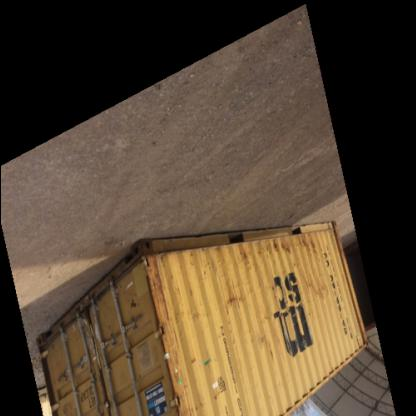Damage: (140, 258, 184, 390), (236, 235, 325, 264), (213, 284, 254, 314), (245, 333, 282, 365), (296, 282, 330, 304), (201, 374, 225, 402), (119, 286, 138, 316)
